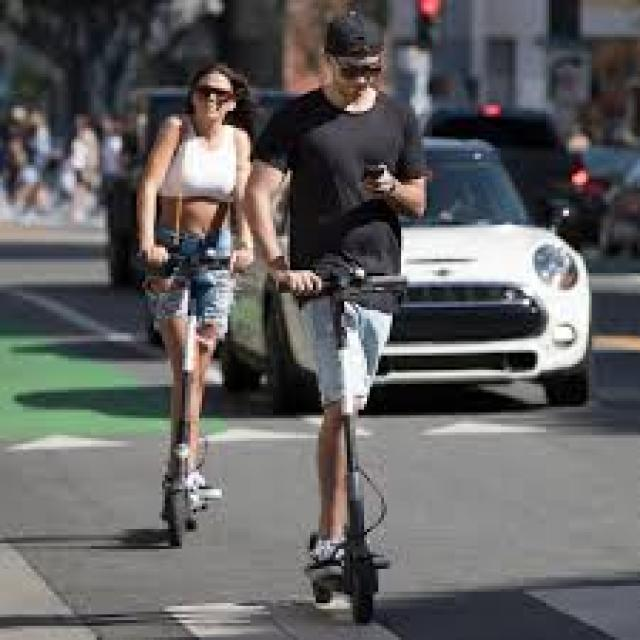non-helmet: (253, 5, 435, 628), (120, 51, 260, 558)
